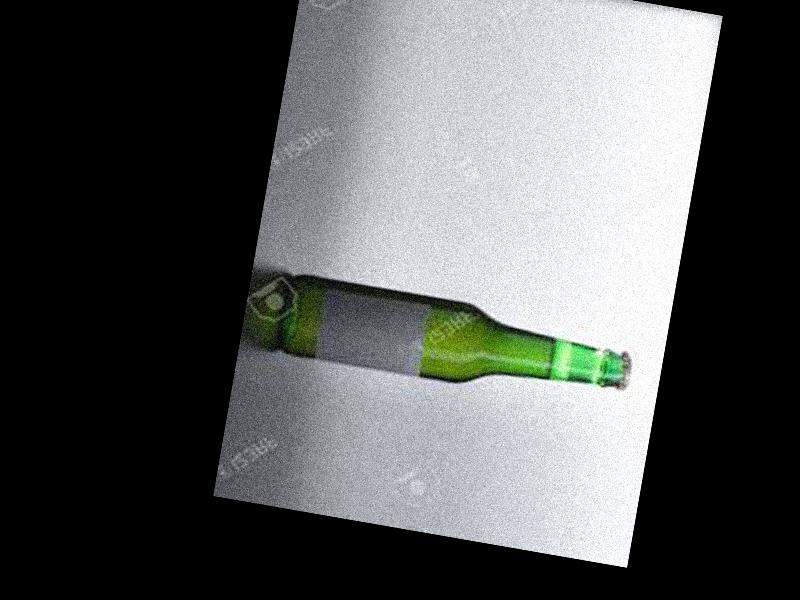Beer: (276, 272, 637, 413)
